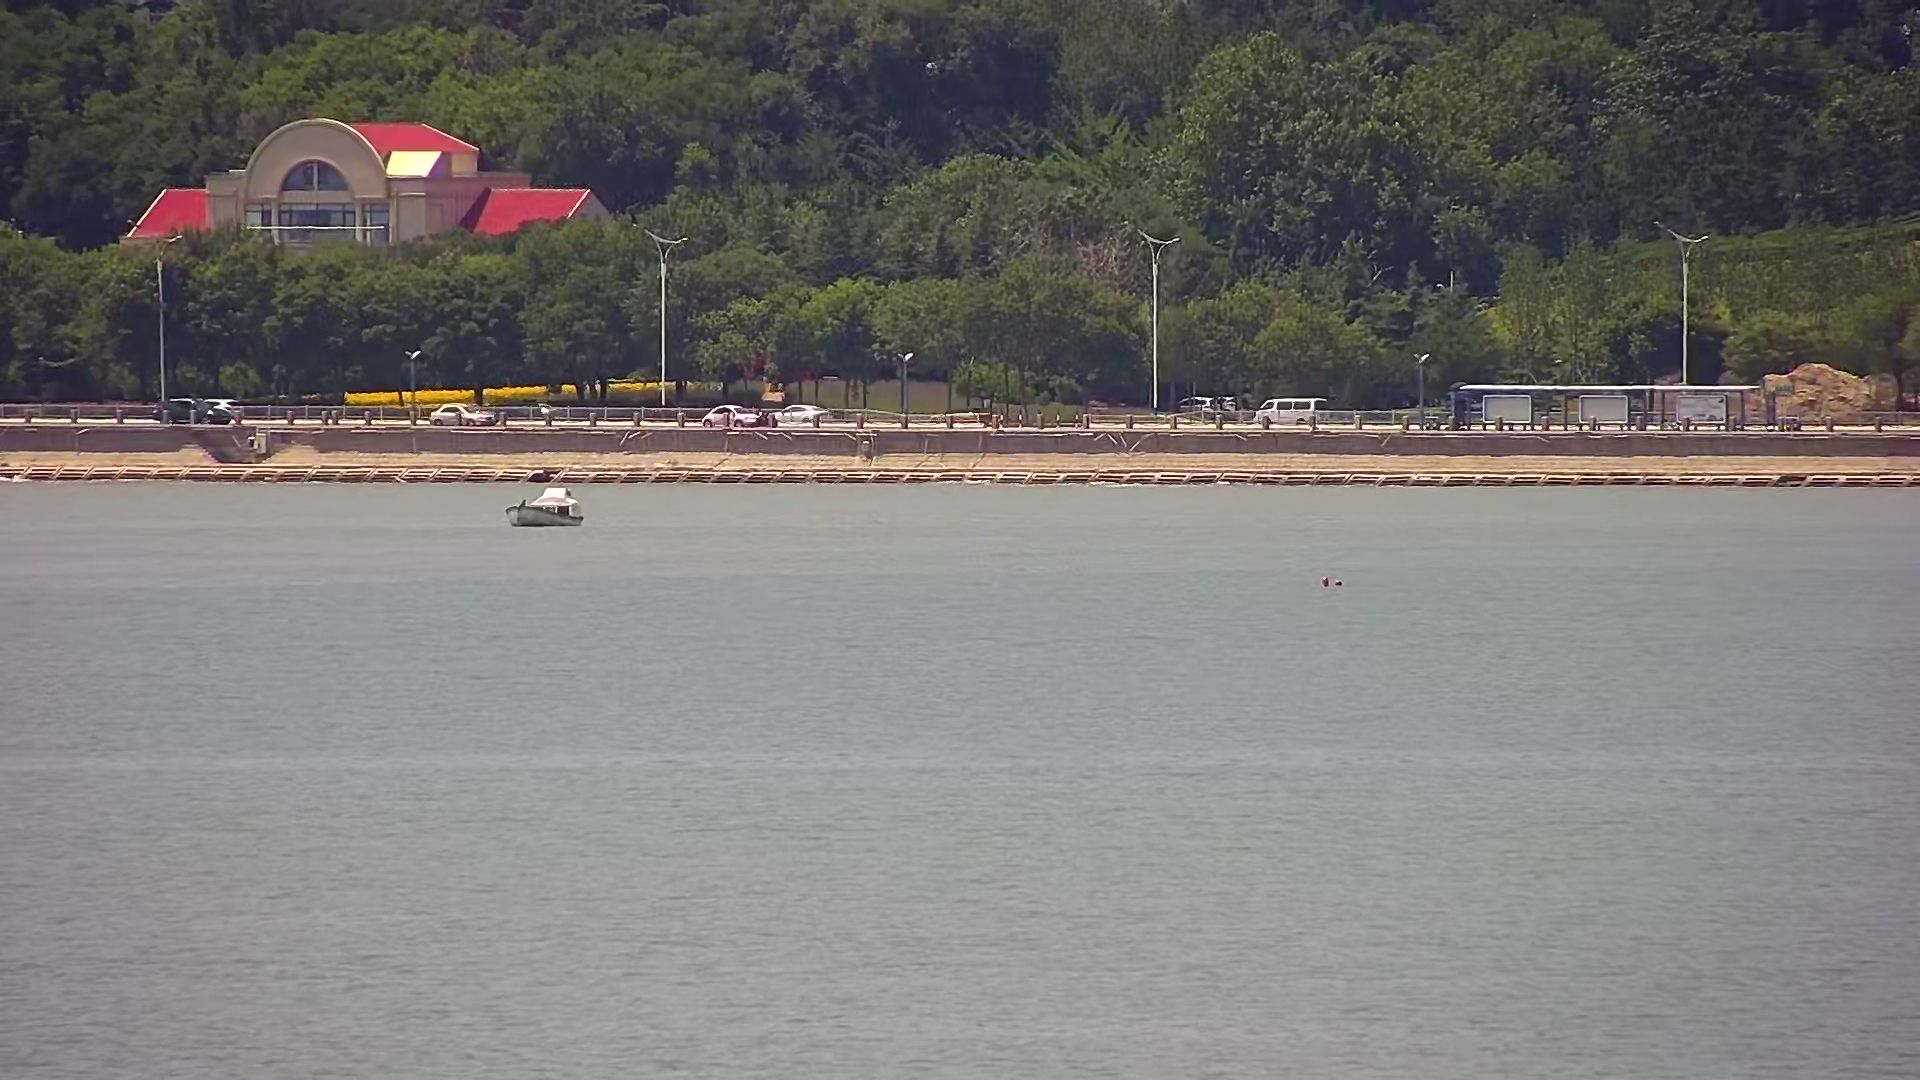boat: (500, 487, 591, 534)
rubbish: (1323, 571, 1345, 591)
